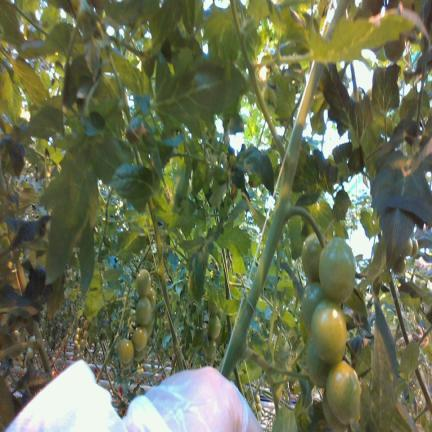6kp_peduncle: (266, 175, 326, 250), (150, 254, 166, 287)
6kp_petiole: (218, 304, 269, 378), (262, 107, 302, 199), (10, 321, 50, 366), (156, 234, 175, 262), (225, 273, 242, 297)
MainStem: (219, 65, 321, 378), (149, 199, 184, 371), (391, 276, 410, 345), (33, 323, 52, 375), (221, 250, 230, 299)
tomato: (319, 237, 355, 302), (311, 299, 346, 364), (326, 361, 360, 424), (306, 338, 330, 386), (302, 282, 324, 330), (323, 391, 347, 431), (302, 233, 321, 282), (136, 297, 152, 326), (135, 269, 151, 296), (118, 338, 134, 364), (132, 326, 148, 350), (207, 314, 220, 339), (392, 255, 405, 274), (148, 287, 156, 311), (403, 238, 412, 256), (146, 314, 153, 336), (411, 238, 418, 257), (135, 349, 145, 362)
